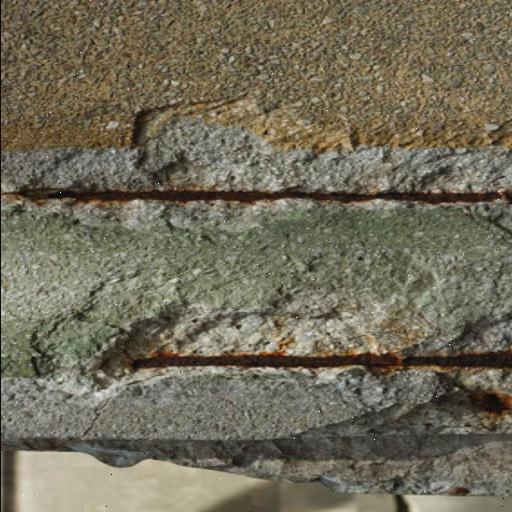spalling: (2, 102, 506, 242), (9, 291, 507, 405)
